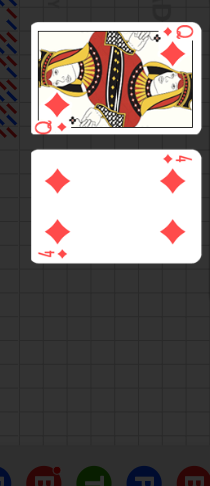4D: (38, 248, 69, 260)
QD: (31, 78, 78, 122), (152, 11, 198, 55)
